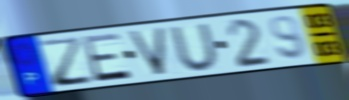2: (226, 17, 273, 70)
9: (267, 14, 308, 62)
E: (80, 31, 134, 84)
U: (168, 21, 223, 72)
V: (125, 26, 169, 78)
Z: (37, 35, 96, 89)
